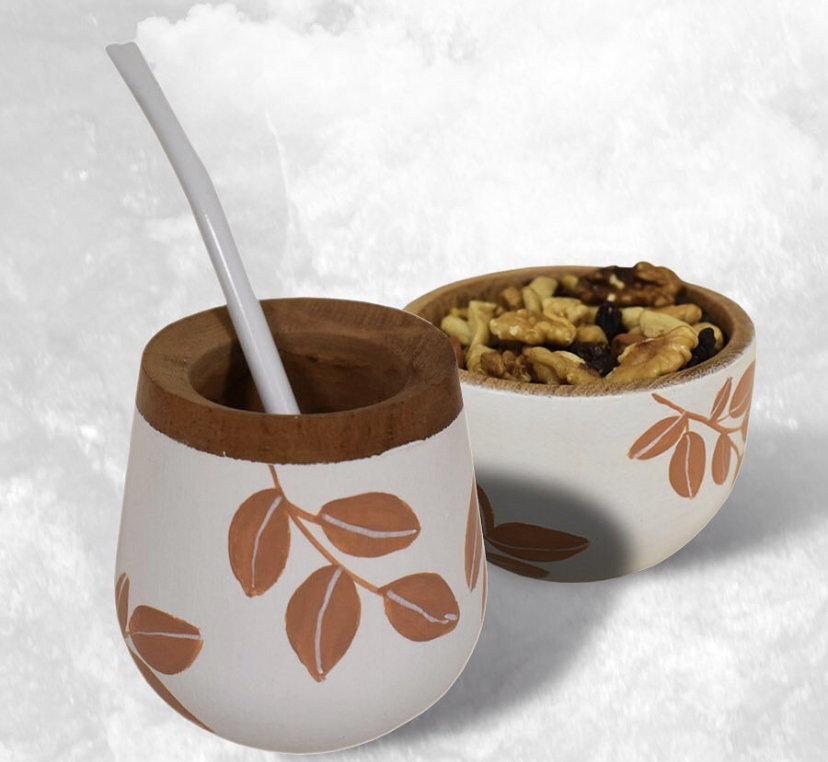madera: (107, 294, 498, 756)
mate: (82, 36, 494, 762)
